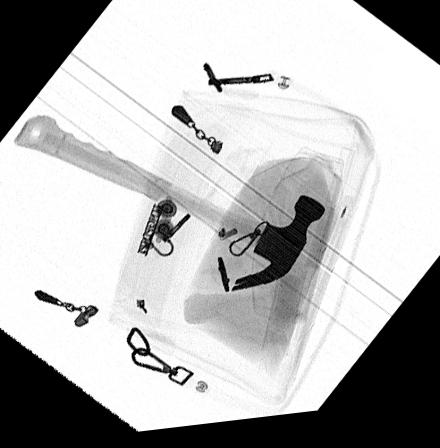Hammer: (12, 115, 325, 299)
